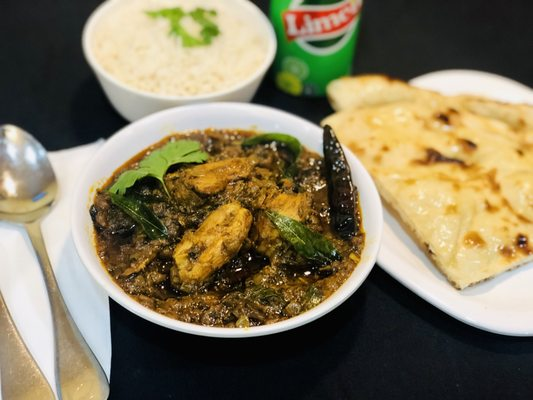salad: (0, 126, 113, 400)
sushi: (68, 103, 382, 338), (82, 0, 278, 123)
